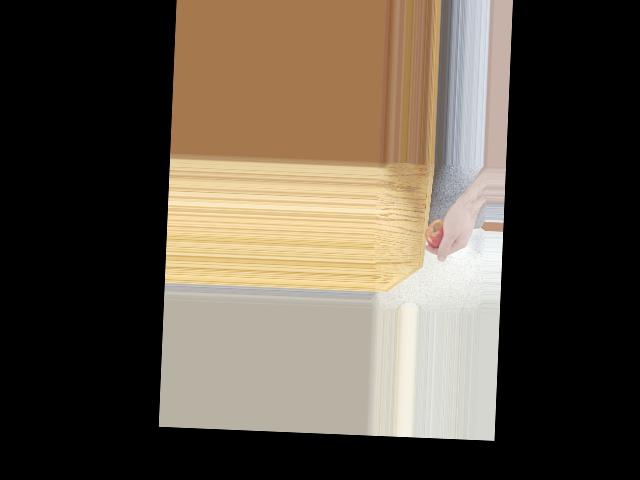apple: (424, 214, 453, 249)
